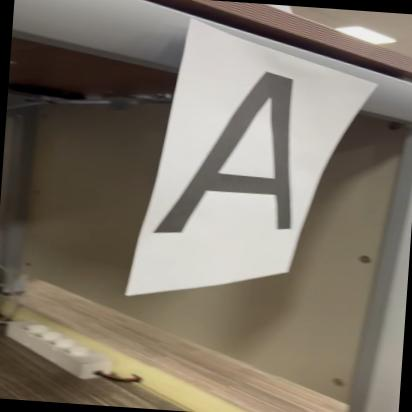seat: (156, 56, 318, 246)
